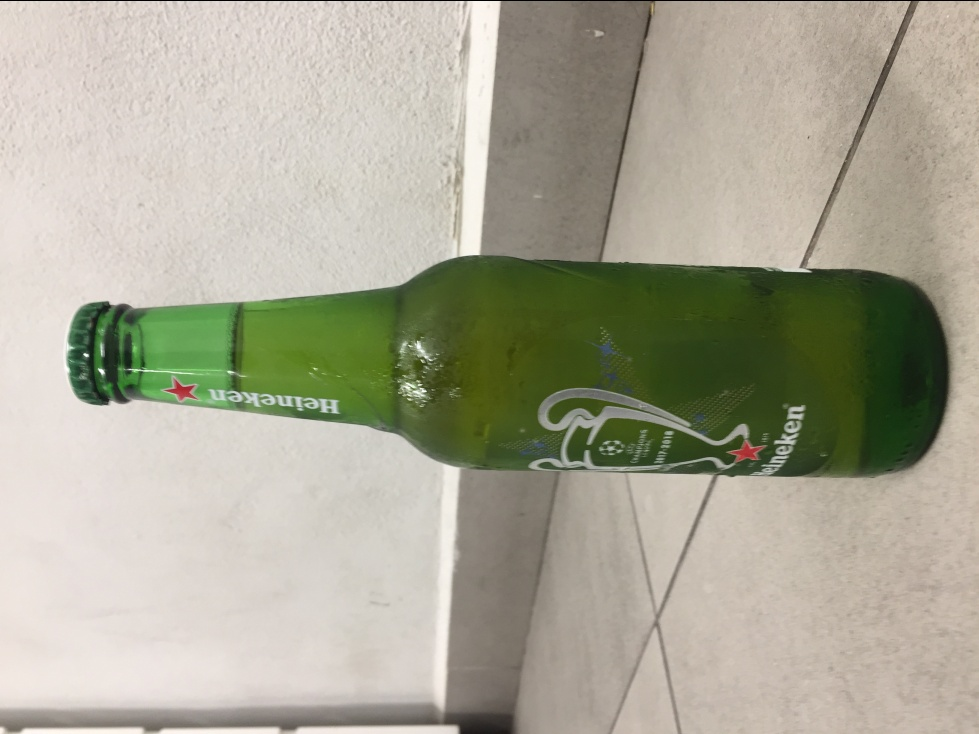heineken: (63, 252, 954, 482)
